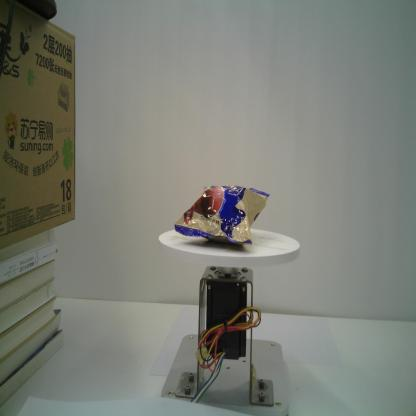Dessert: (173, 182, 272, 248)
